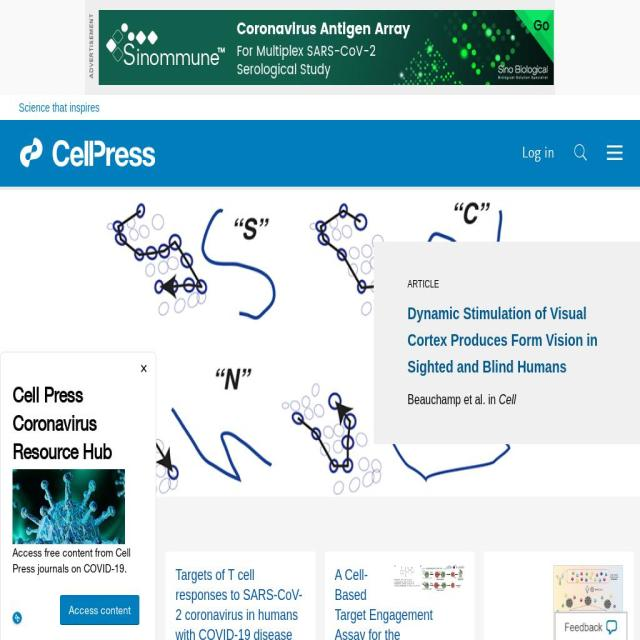button: (16, 565, 88, 640), (52, 140, 156, 167), (553, 611, 627, 640), (394, 565, 464, 592), (606, 141, 623, 166)
heading: (6, 513, 640, 535), (408, 304, 598, 376), (175, 566, 302, 640), (334, 566, 459, 640)
iframe: (0, 351, 156, 640), (98, 10, 554, 85), (553, 611, 627, 640)
image: (16, 565, 88, 640), (553, 565, 623, 640), (52, 140, 156, 167), (394, 565, 464, 592), (20, 138, 42, 168), (88, 13, 94, 79)
link: (19, 101, 99, 114), (522, 145, 554, 162)
text: (408, 278, 612, 290), (408, 392, 500, 407), (574, 144, 590, 164), (498, 392, 516, 407)
